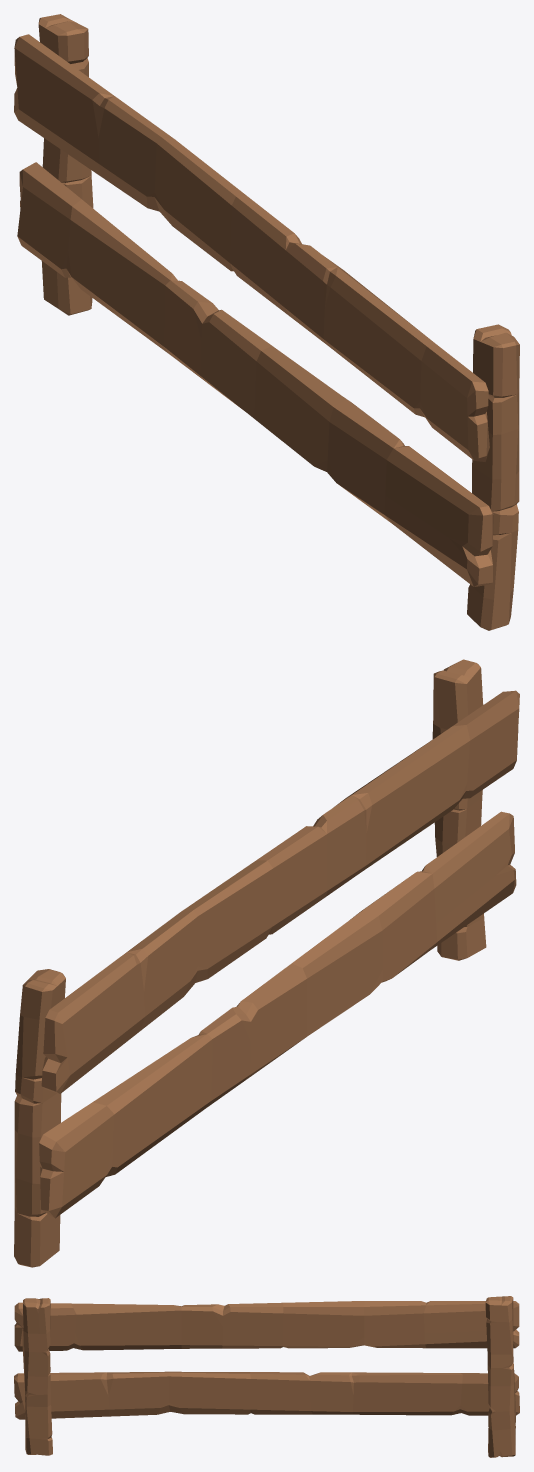
The model's file is cloture.fbx.
3 renders of one model, top to bottom at view 1: azimuth 30°, elevation 25°; view 2: azimuth 150°, elevation 25°; view 3: azimuth 270°, elevation 25°, orthographic. The views are drawn at different scales.
Parts seen in each view (by area): view 1: pCube147, pCube146, pCube149, pCube148; view 2: pCube147, pCube146, pCube148, pCube149; view 3: pCube146, pCube147, pCube148, pCube149.
Boxes of the visible parts, <box> form: pCube147: <box>17,162,493,586</box>; pCube146: <box>14,34,489,461</box>; pCube149: <box>467,324,519,630</box>; pCube148: <box>38,14,93,315</box>; pCube147: <box>39,811,516,1218</box>; pCube146: <box>41,690,519,1093</box>; pCube148: <box>14,969,65,1267</box>; pCube149: <box>432,659,486,960</box>; pCube146: <box>14,1301,519,1351</box>; pCube147: <box>14,1371,519,1419</box>; pCube148: <box>485,1296,515,1457</box>; pCube149: <box>22,1298,52,1455</box>.
Size of the model in its own units: 12.18 by 51.05 by 152.
